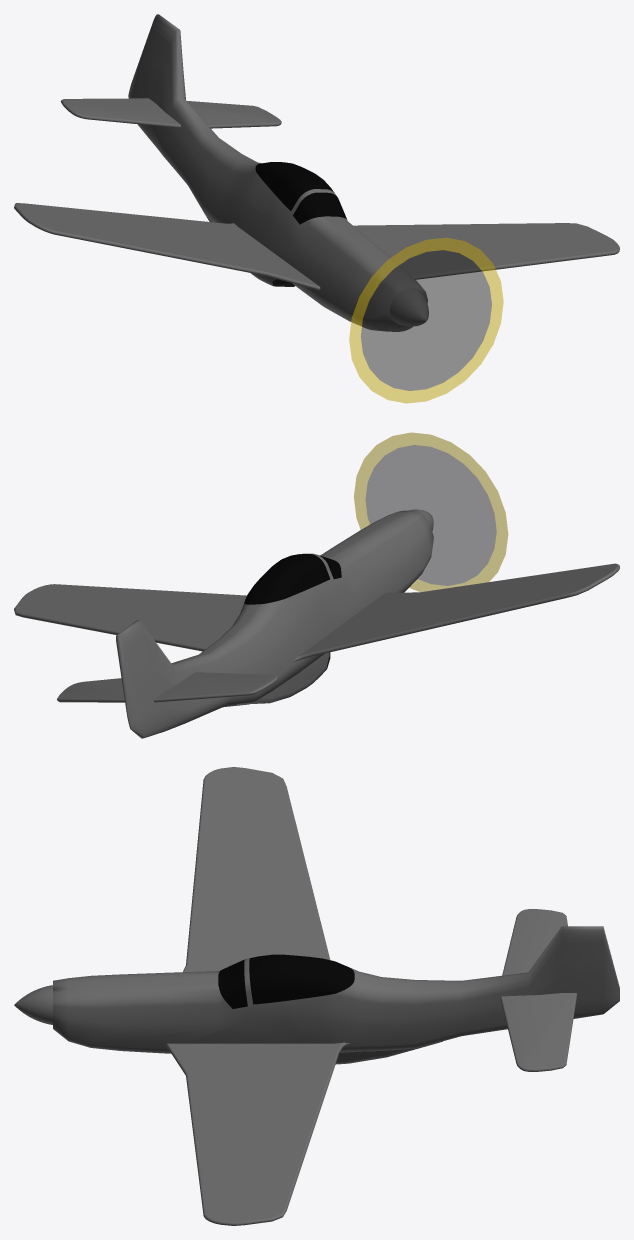
3 renders of one model, top to bottom at view 1: azimuth 30°, elevation 25°; view 2: azimuth 150°, elevation 25°; view 3: azimuth 270°, elevation 25°, orthographic.
Visible parts, largest first — view 1: Group6, Group1, Group3, Group7, Group5, Group2, Group4; view 2: Group6, Group1, Group7, Group3, Group5, Group2; view 3: Group6, Group3, Group7, Group2, Group5, Group4, Group1.
Boxes of the visible parts, bbox=[...] form: Group6: bbox=[128, 14, 427, 331]; Group1: bbox=[206, 216, 503, 403]; Group3: bbox=[353, 223, 619, 279]; Group7: bbox=[14, 203, 320, 290]; Group5: bbox=[60, 98, 180, 128]; Group2: bbox=[187, 101, 281, 128]; Group4: bbox=[390, 288, 428, 326]; Group6: bbox=[116, 510, 433, 738]; Group1: bbox=[237, 432, 508, 704]; Group7: bbox=[294, 563, 619, 661]; Group3: bbox=[14, 584, 246, 651]; Group5: bbox=[153, 672, 277, 702]; Group2: bbox=[57, 678, 124, 702]; Group6: bbox=[53, 926, 619, 1053]; Group3: bbox=[166, 1042, 349, 1225]; Group7: bbox=[183, 767, 330, 972]; Group2: bbox=[500, 993, 577, 1071]; Group5: bbox=[502, 909, 567, 975]; Group4: bbox=[14, 985, 52, 1024]; Group1: bbox=[335, 1041, 442, 1064].
Size of the model in its own units: 186 by 52.85 by 164.
